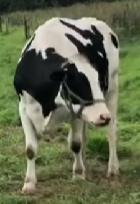cow: (14, 18, 121, 194)
